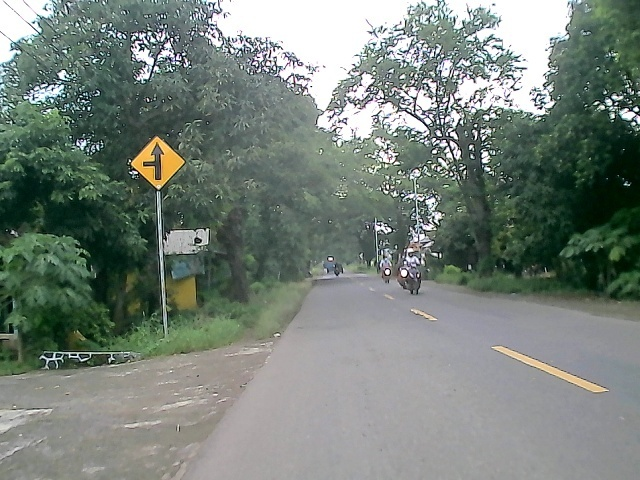Simpang kiri dengan prioritas: (129, 133, 186, 192)
